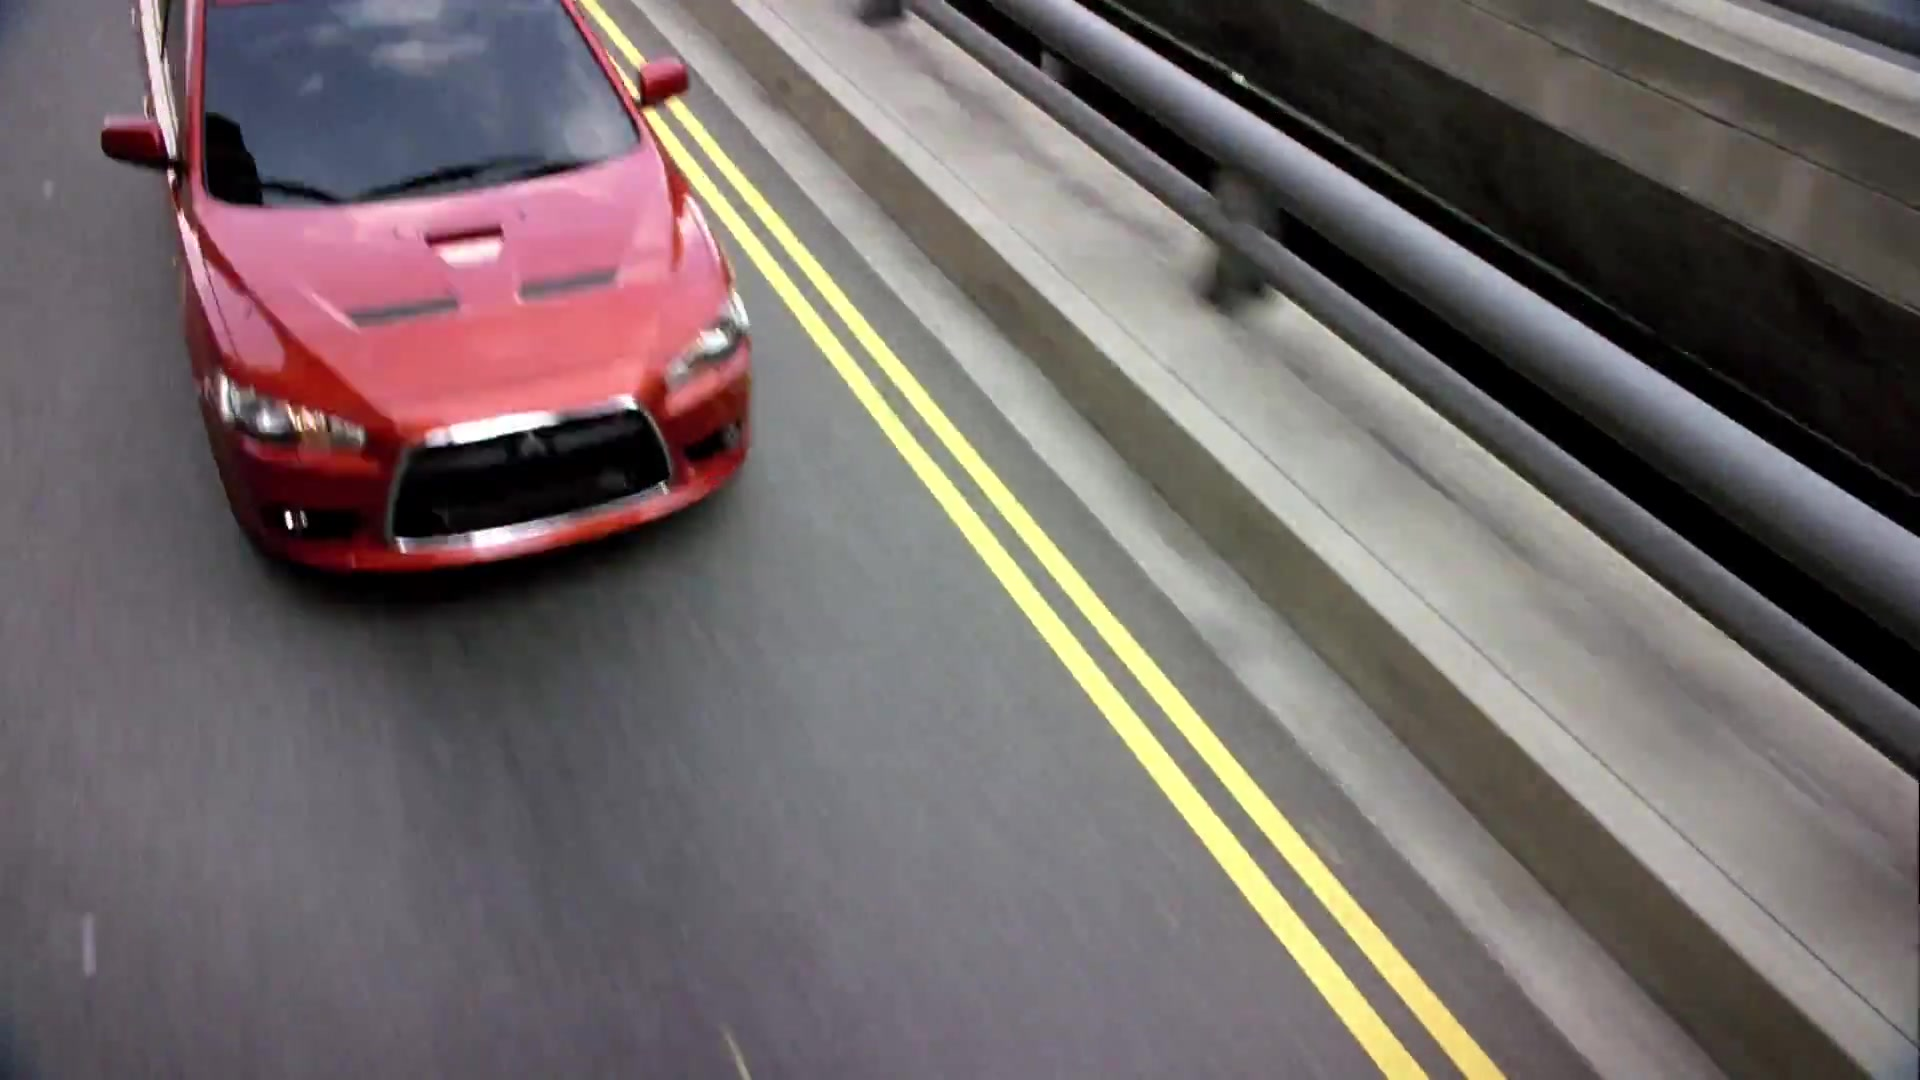car: (95, 1, 762, 603)
